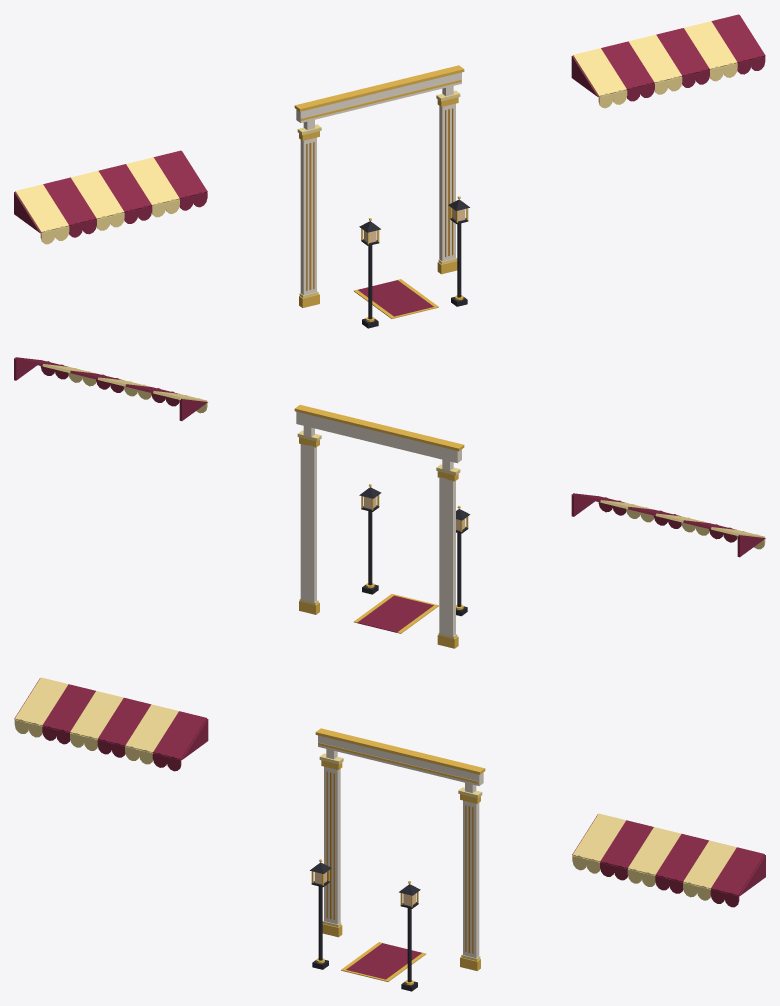
Rendered from CatCafe_Plot_ThemeGrand_52x40.glb.
3 views of the same model, one above another, from view 1: azimuth 30°, elevation 25°; view 2: azimuth 150°, elevation 25°; view 3: azimuth 330°, elevation 25° (orthographic).
Visible parts, largest first — view 1: CatCafe_Plot_ThemeGrand_52x40_Awning, CatCafe_Plot_ThemeGrand_52x40; view 2: CatCafe_Plot_ThemeGrand_52x40, CatCafe_Plot_ThemeGrand_52x40_Awning; view 3: CatCafe_Plot_ThemeGrand_52x40_Awning, CatCafe_Plot_ThemeGrand_52x40.
Boxes of the visible parts, x1,y1,x2,y2 form: CatCafe_Plot_ThemeGrand_52x40_Awning: [14, 14, 765, 244]; CatCafe_Plot_ThemeGrand_52x40: [294, 65, 469, 328]; CatCafe_Plot_ThemeGrand_52x40: [294, 405, 470, 648]; CatCafe_Plot_ThemeGrand_52x40_Awning: [14, 357, 765, 557]; CatCafe_Plot_ThemeGrand_52x40_Awning: [14, 677, 765, 907]; CatCafe_Plot_ThemeGrand_52x40: [310, 728, 485, 991].
Bounding box in the file's own units: 48.15 × 12.75 × 4.86.
Materials: 1 (1 with a texture image).
